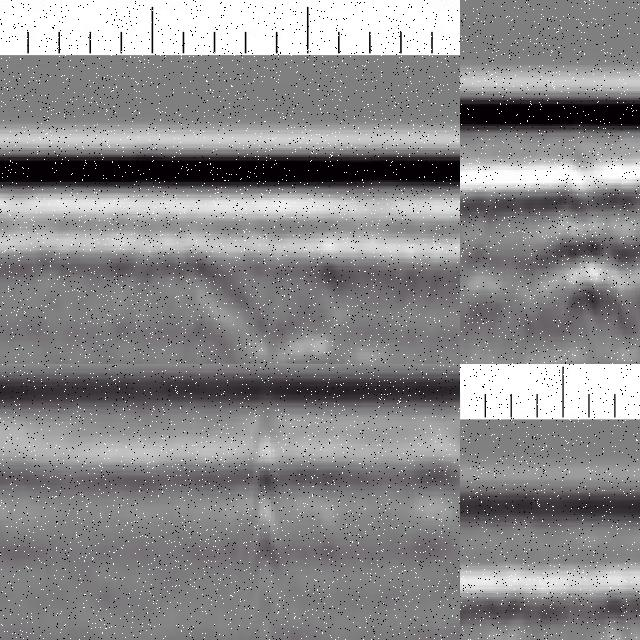crack: (249, 385, 279, 640)
loose: (528, 220, 640, 345)
